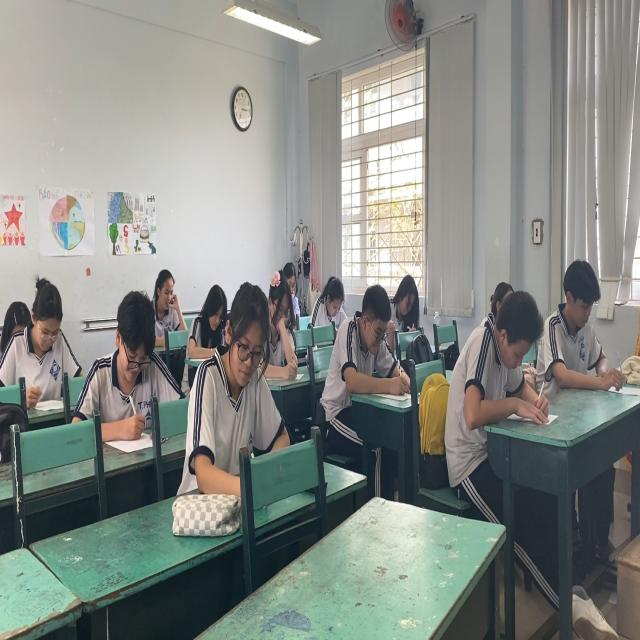not_cheating: (85, 296, 174, 450), (454, 284, 534, 426), (0, 271, 85, 402), (544, 261, 615, 399), (219, 282, 272, 450), (338, 295, 402, 399), (264, 272, 297, 372), (149, 261, 188, 333), (188, 286, 229, 350), (307, 274, 343, 340), (388, 274, 424, 333), (278, 243, 300, 302)
